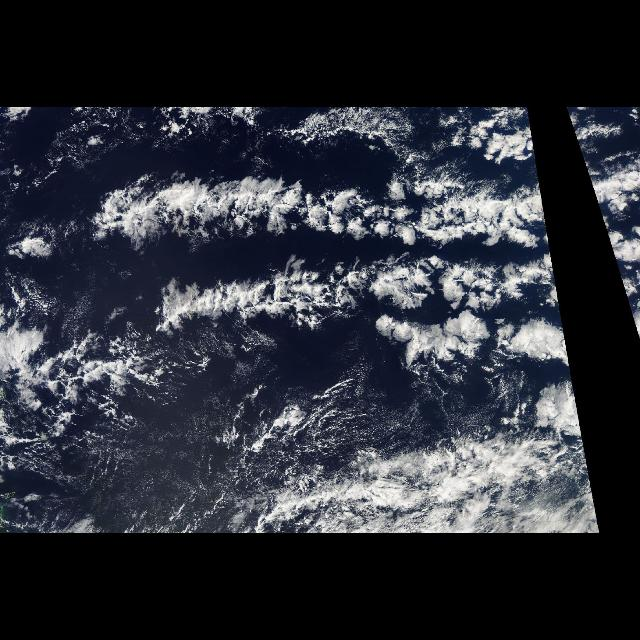Fish: (73, 157, 575, 370), (585, 174, 635, 326)
Flower: (340, 160, 580, 416), (582, 160, 638, 344)
Gravel: (3, 378, 350, 472)
